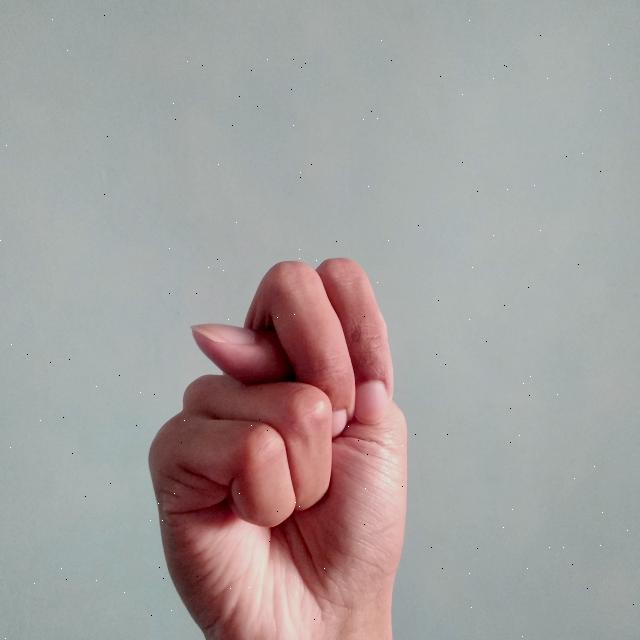N: (141, 251, 414, 640)
